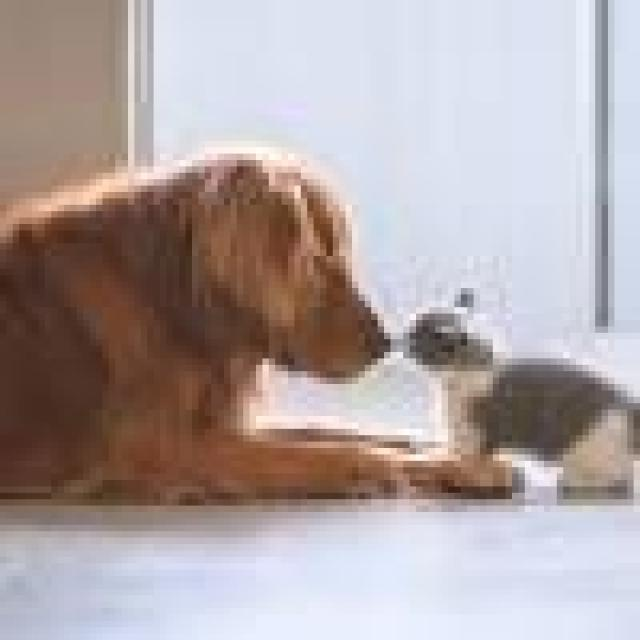cat: (390, 278, 640, 507)
dog: (2, 137, 409, 516)
